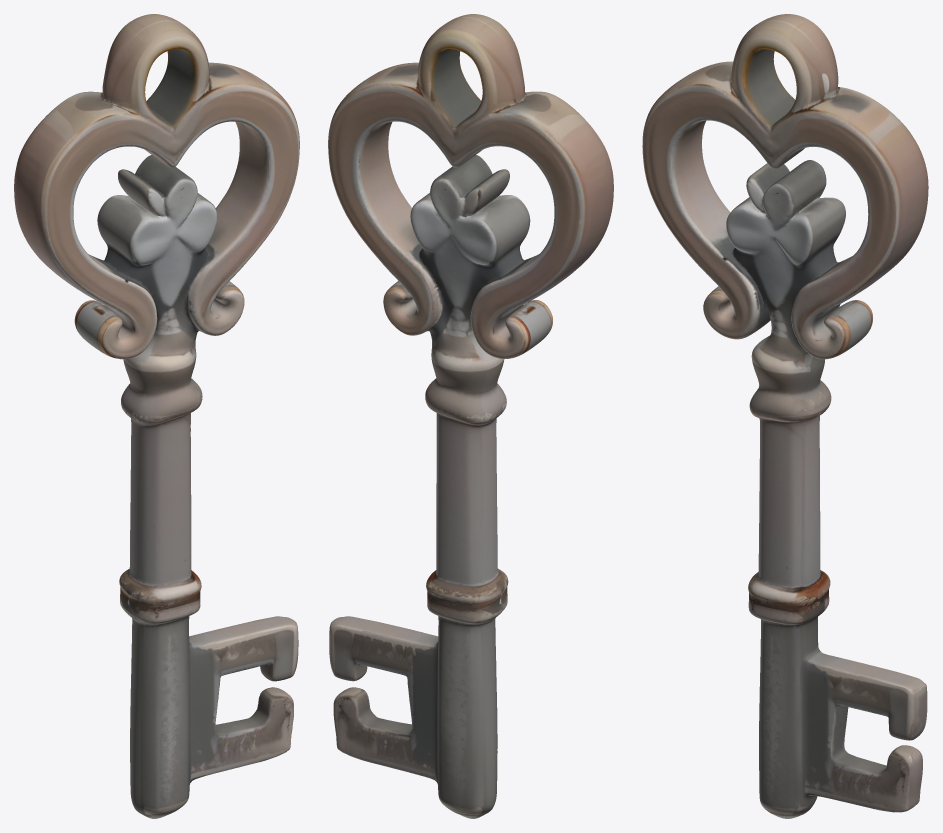
File: antique key 3d model (2).glb
The picture shows the model from 3 angles, left to right: view 1: azimuth 30°, elevation 25°; view 2: azimuth 150°, elevation 25°; view 3: azimuth 330°, elevation 25°; orthographic projection.
Visible parts, largest first — view 1: tripo_node_600781f9-4a7d-404e-b2b4-93d20d438d2d; view 2: tripo_node_600781f9-4a7d-404e-b2b4-93d20d438d2d; view 3: tripo_node_600781f9-4a7d-404e-b2b4-93d20d438d2d.
Boxes of the visible parts, bbox=[...] form: tripo_node_600781f9-4a7d-404e-b2b4-93d20d438d2d: bbox=[14, 14, 299, 818]; tripo_node_600781f9-4a7d-404e-b2b4-93d20d438d2d: bbox=[328, 14, 613, 818]; tripo_node_600781f9-4a7d-404e-b2b4-93d20d438d2d: bbox=[642, 14, 928, 818].
Bounding box in the file's own units: 0.3544 × 1 × 0.0881.
Materials: 1 (1 with a texture image).
